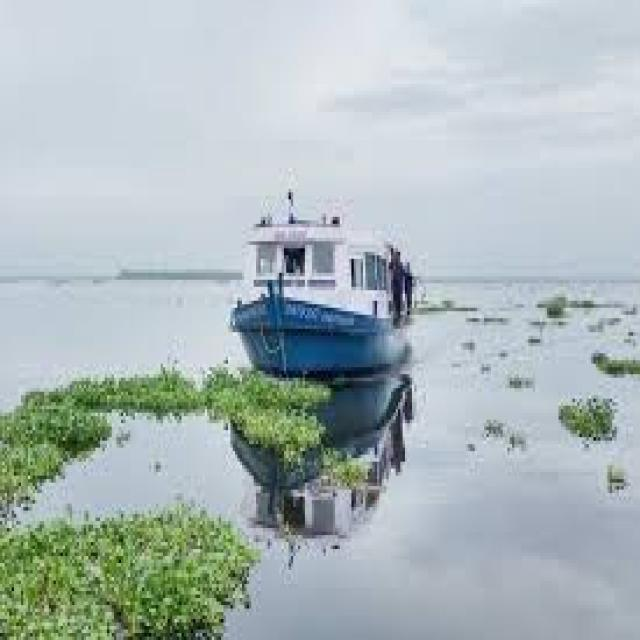houseboat: (219, 171, 417, 410)
